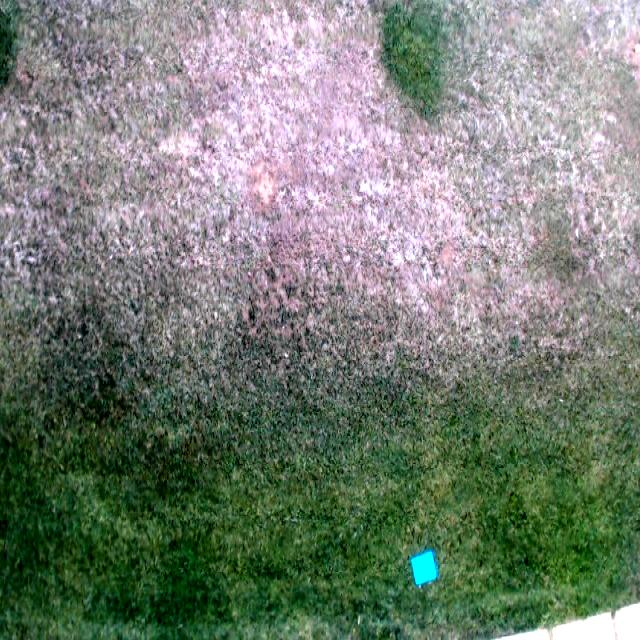blue_square: (409, 548, 438, 587)
